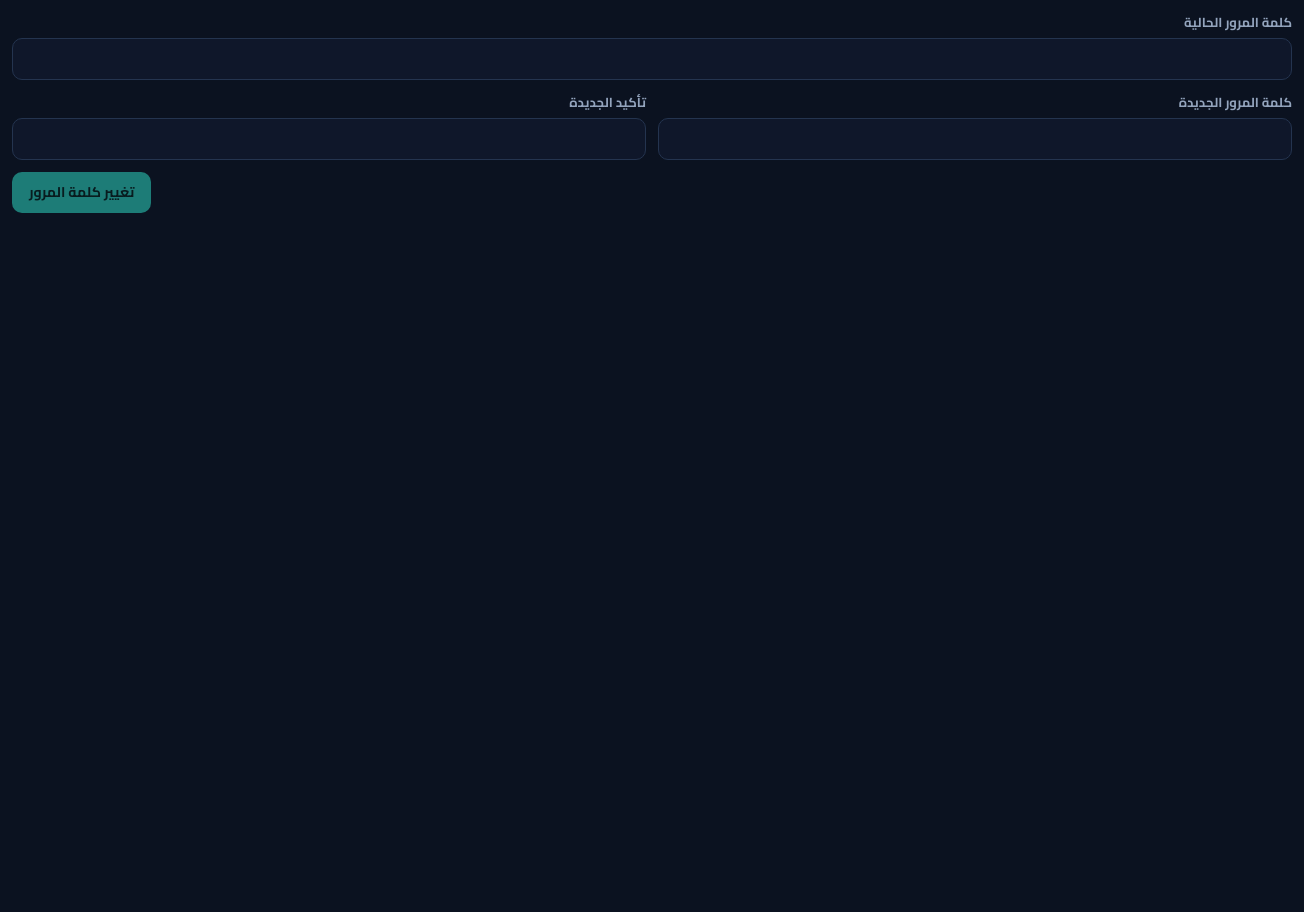
Test case: الإعدادات — تغيير كلمة المرور (كان الزر يعرض تلميحاً فقط) › الحالية خاطئة ⇒ لا حفظ؛ صحيحة ⇒ حفظ تجزئة الجديدة
In the password field below "كلمة المرور الحالية": x=652, y=59 [12,38,1292,80], type "قديمة-خاطئة"
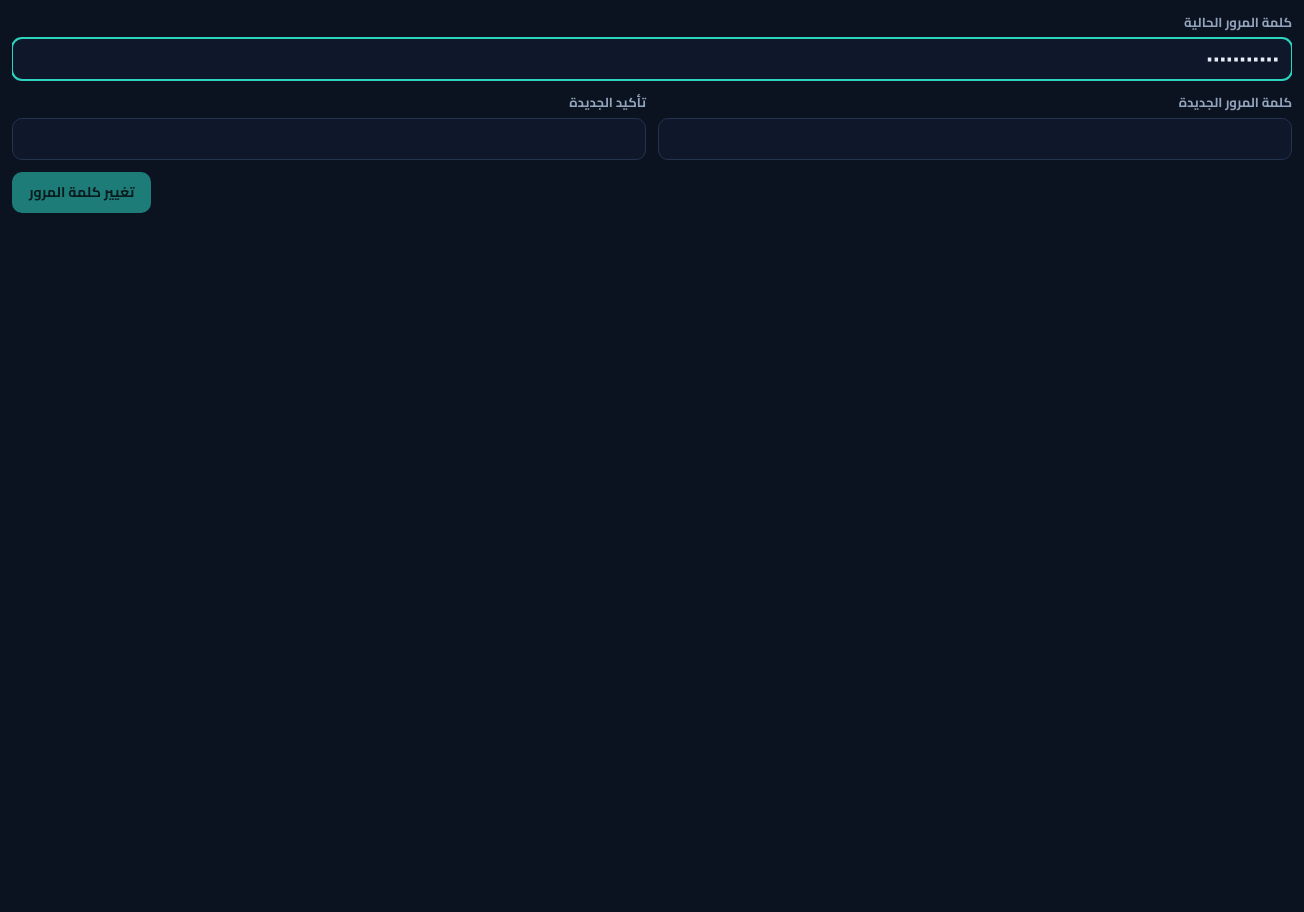
In the password field below "كلمة المرور الجديدة": x=975, y=139 [658,118,1292,160], type "جديدة-قوية-1"
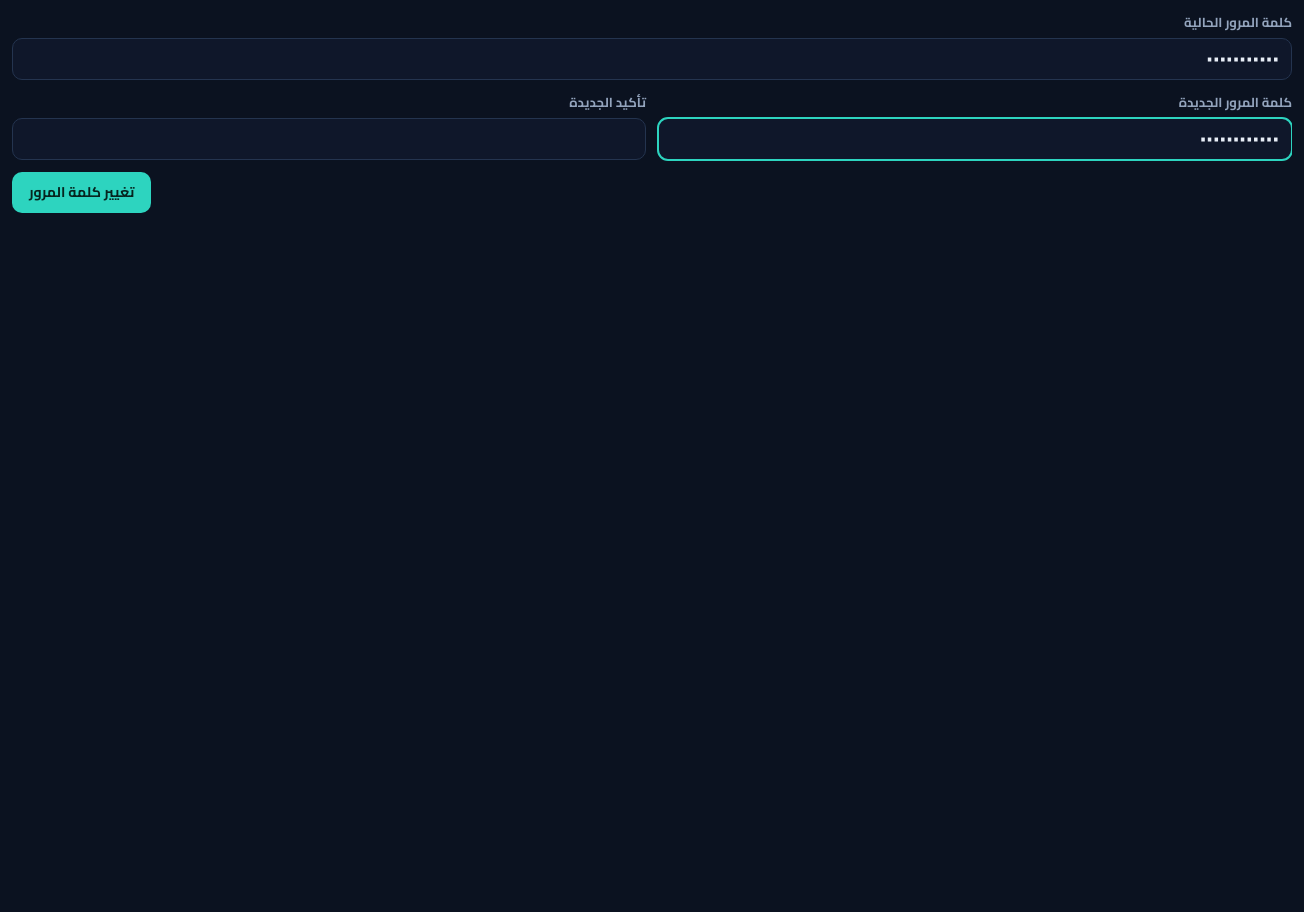
In the password field below "تأكيد الجديدة": x=329, y=139 [12,118,646,160], type "جديدة-قوية-1"
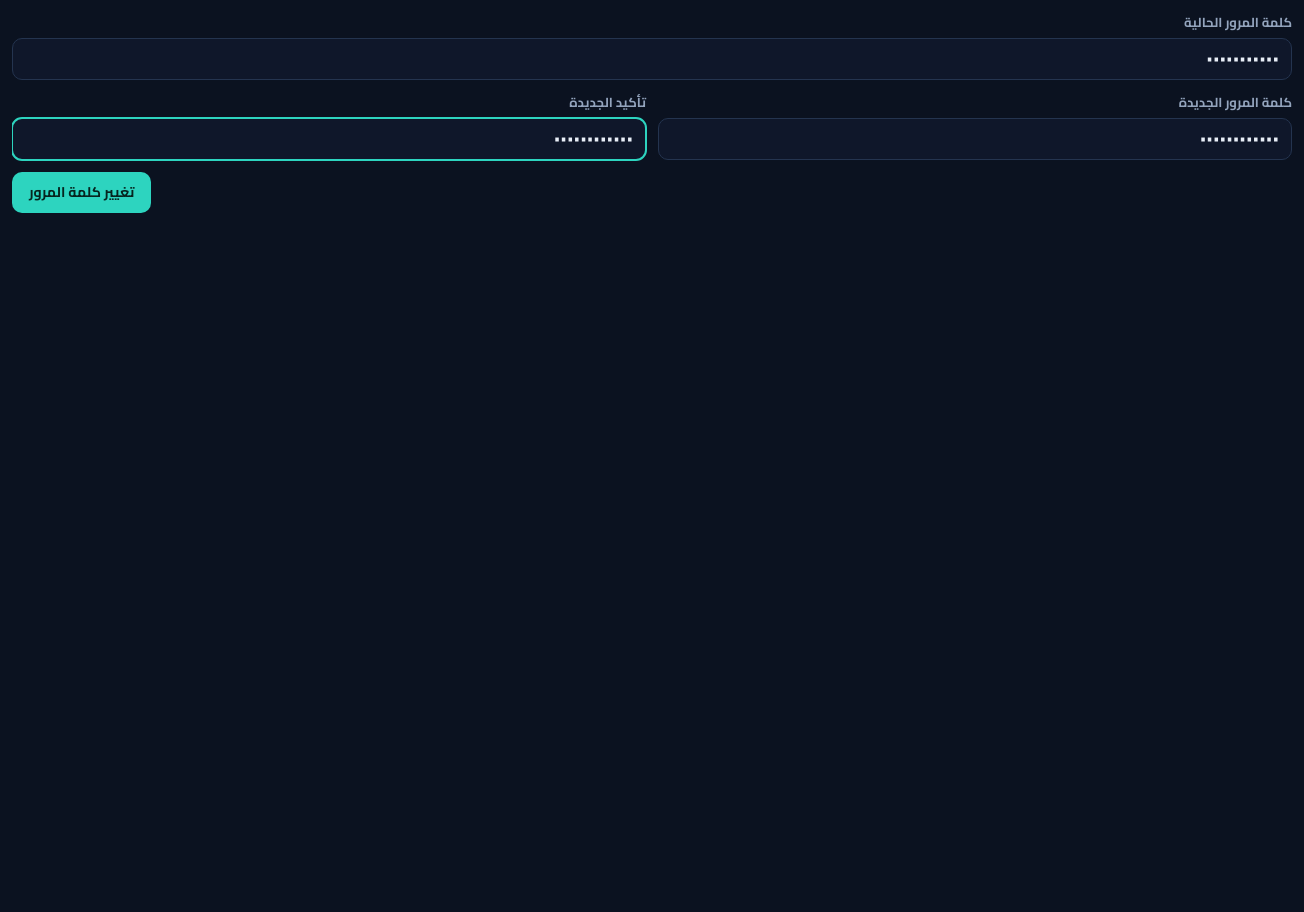
Click the button "تغيير كلمة المرور": x=82, y=193 [12,172,152,213]
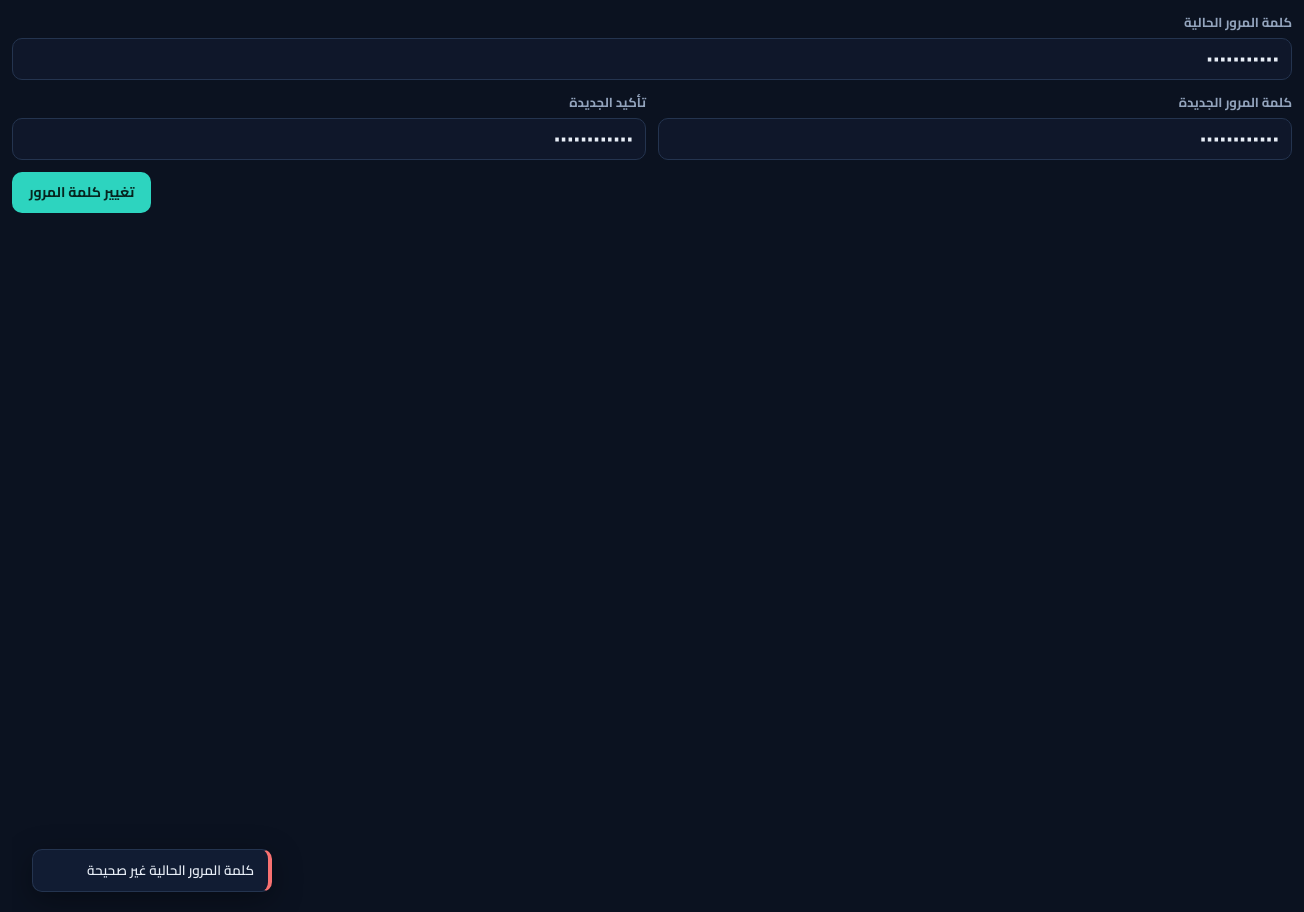
Check: the text "الحالية غير صحيحة" is shown, box [87,857,254,883]
Click the button "تغيير كلمة المرور": x=82, y=193 [12,172,152,213]
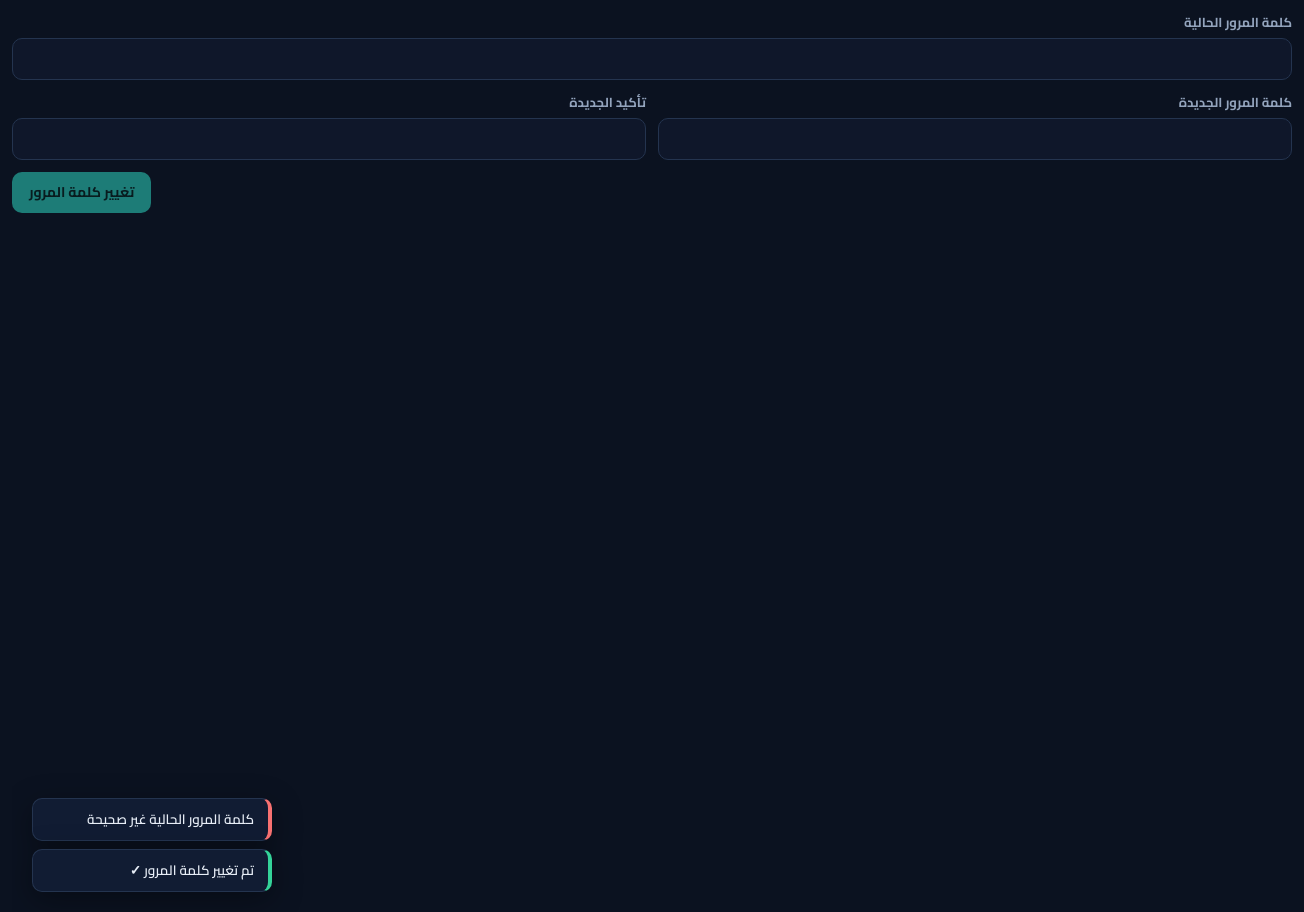
Check: the element with class "toast-wrap" shows "تم تغيير كلمة المرور", box [130,857,254,883]
